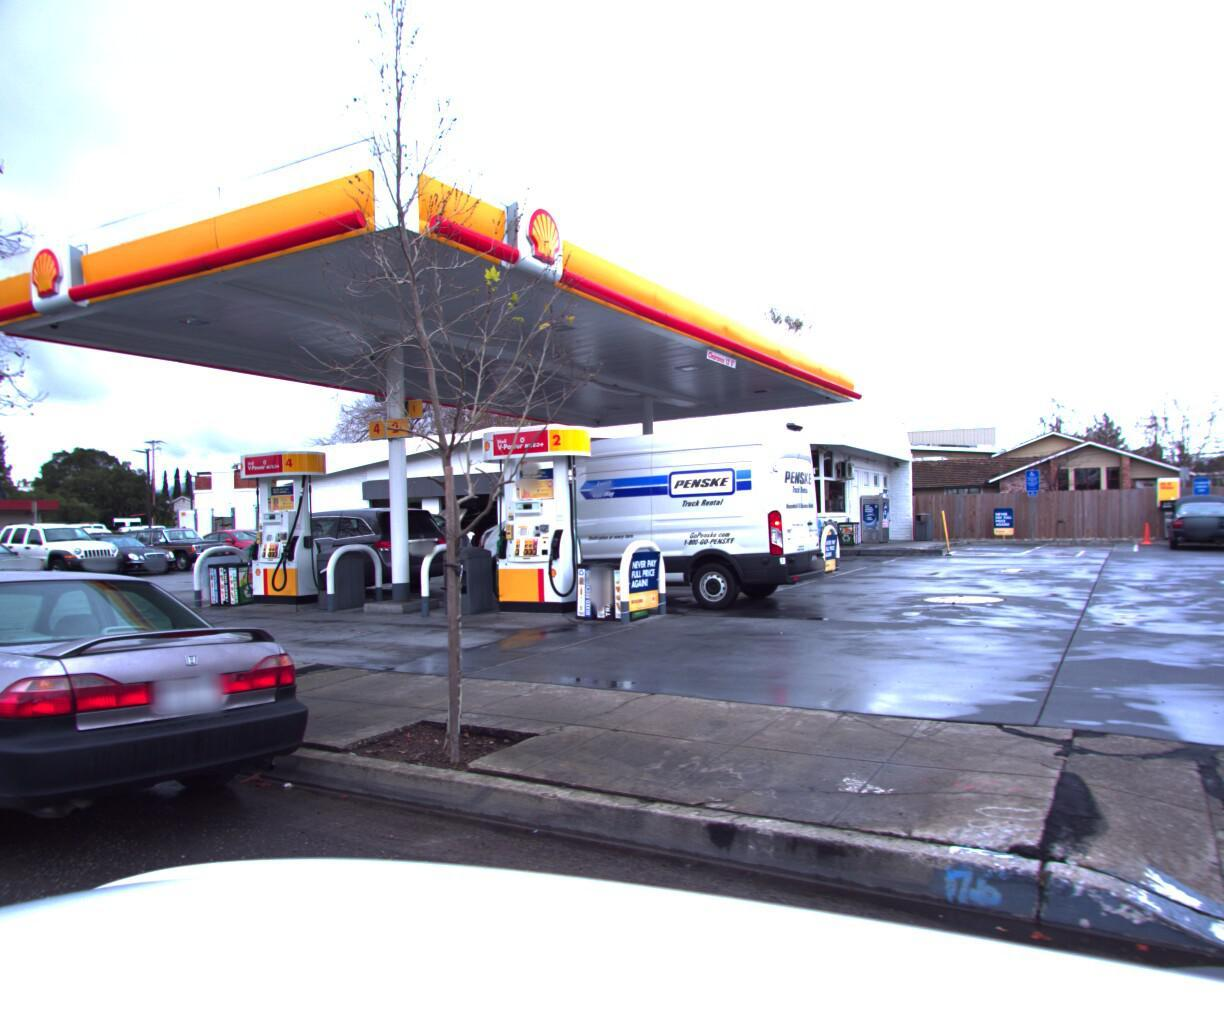car: (0, 553, 344, 929), (216, 509, 458, 601), (0, 521, 136, 586), (52, 535, 185, 581), (365, 514, 480, 566), (42, 529, 158, 580), (120, 528, 238, 576), (191, 531, 300, 570), (0, 538, 58, 595), (1162, 502, 1224, 554)
truck: (456, 413, 831, 612)
